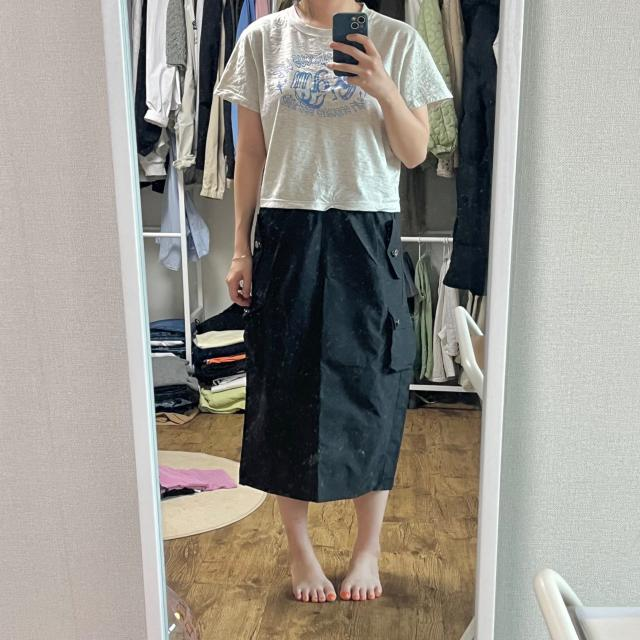shortsleeve: (216, 0, 456, 214)
skirt: (239, 201, 415, 501)
